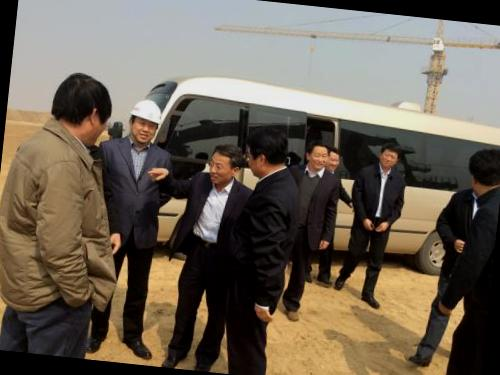no_helmet: (45, 68, 116, 151), (240, 120, 293, 178), (460, 143, 500, 199), (206, 142, 242, 186), (374, 138, 405, 170), (306, 136, 330, 172), (324, 145, 342, 175)
